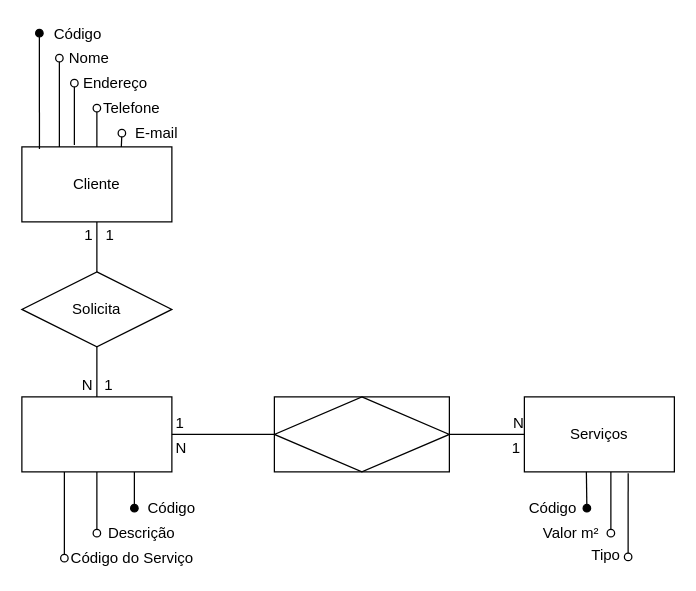
Image size: 696x591. Some labels were removed from this diagram. Here are the shapes that lost their labels. From the top down, the centre of each, then its label:
pixel 96 434: Orçamento
pixel 361 434: Corresponde
